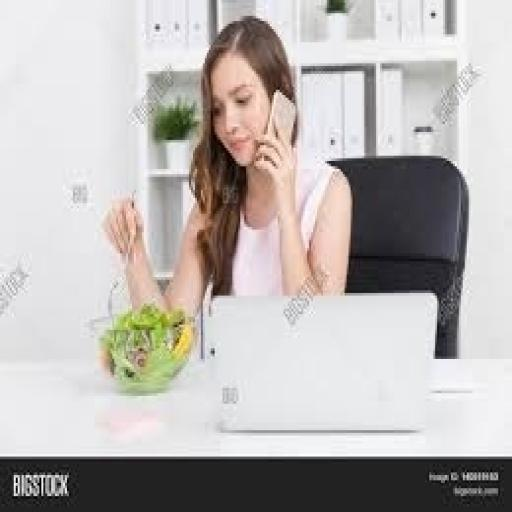eating: (100, 13, 354, 325)
